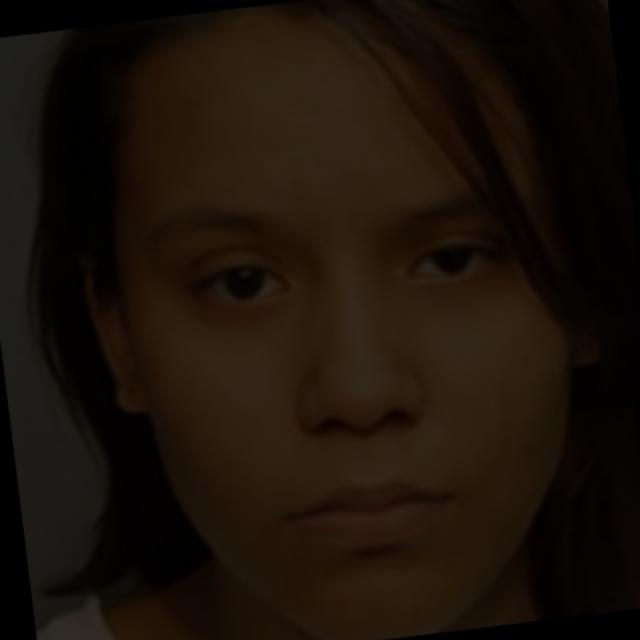Natural: (89, 85, 626, 601)
